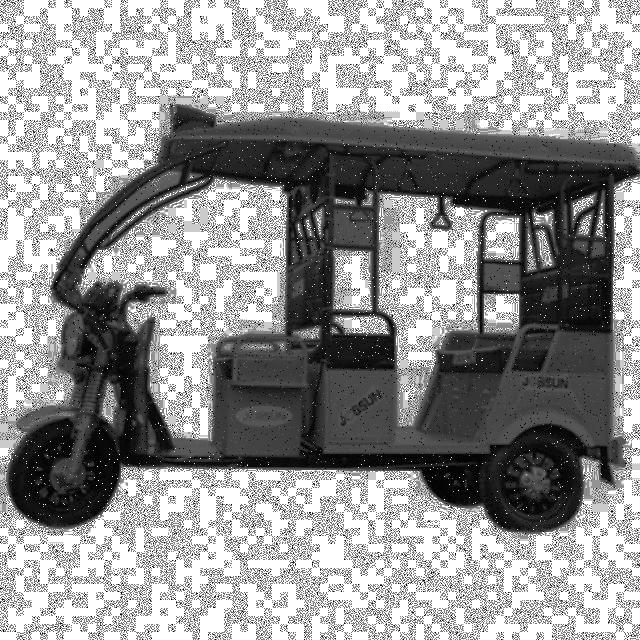Toto: (21, 106, 633, 554)
